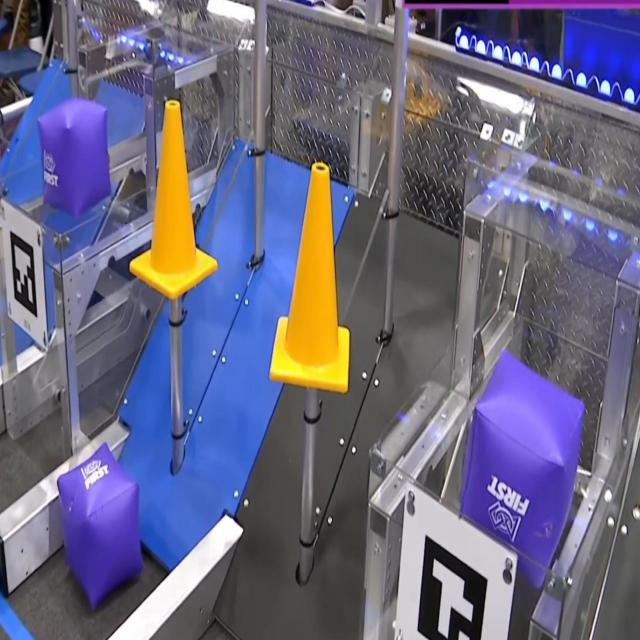frc_cone: (271, 158, 352, 394), (132, 101, 220, 300)
frc_cube: (461, 347, 588, 592), (55, 439, 142, 606), (41, 99, 113, 210)
